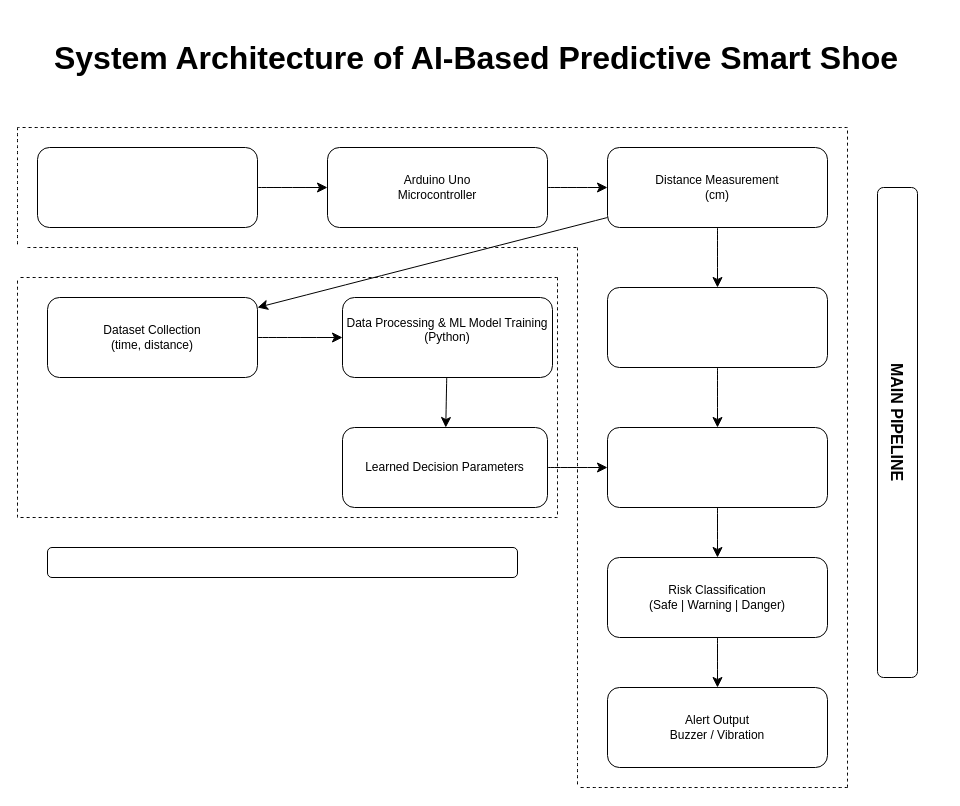
The diagram is 960 pixels wide and 806 high, and some of its shapes have lost their labels. The centre of each missing label's shape, as x and y in pixels:
"Feature Extraction (Distance + Rate of Change)" goes at (717,327).
"ML-Optimized Decision Logic" goes at (717,467).
"Offline Learning Module" goes at (282,562).
"Ultrasonic Sensor (HC-SR04)" goes at (147,187).
